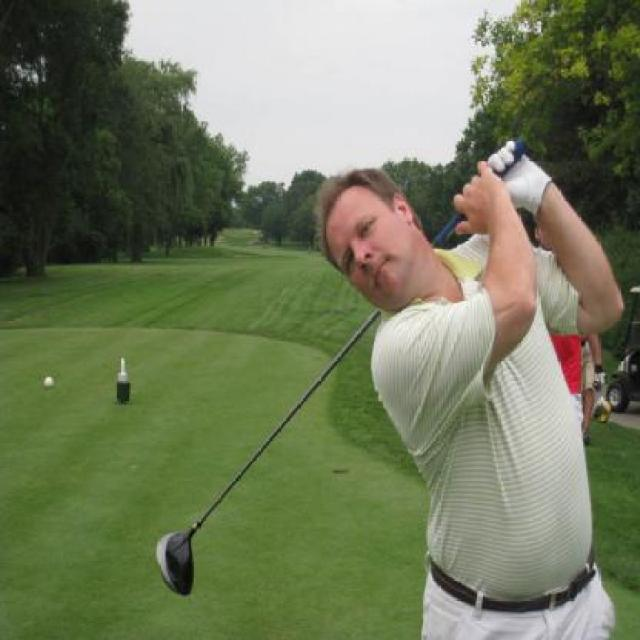club head: (153, 518, 205, 598)
